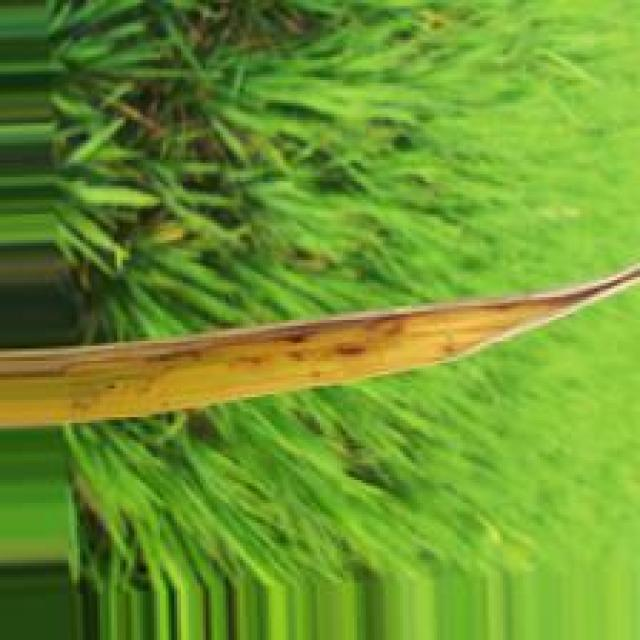Narrow_Brown_Leaf_Spot: (0, 255, 640, 429)
